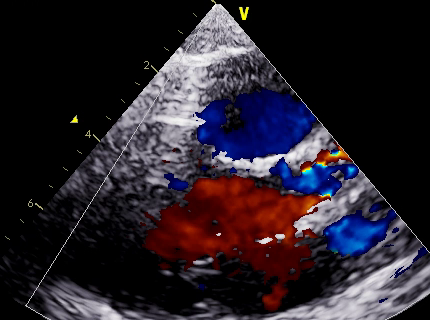AR: (189, 152, 320, 233)
